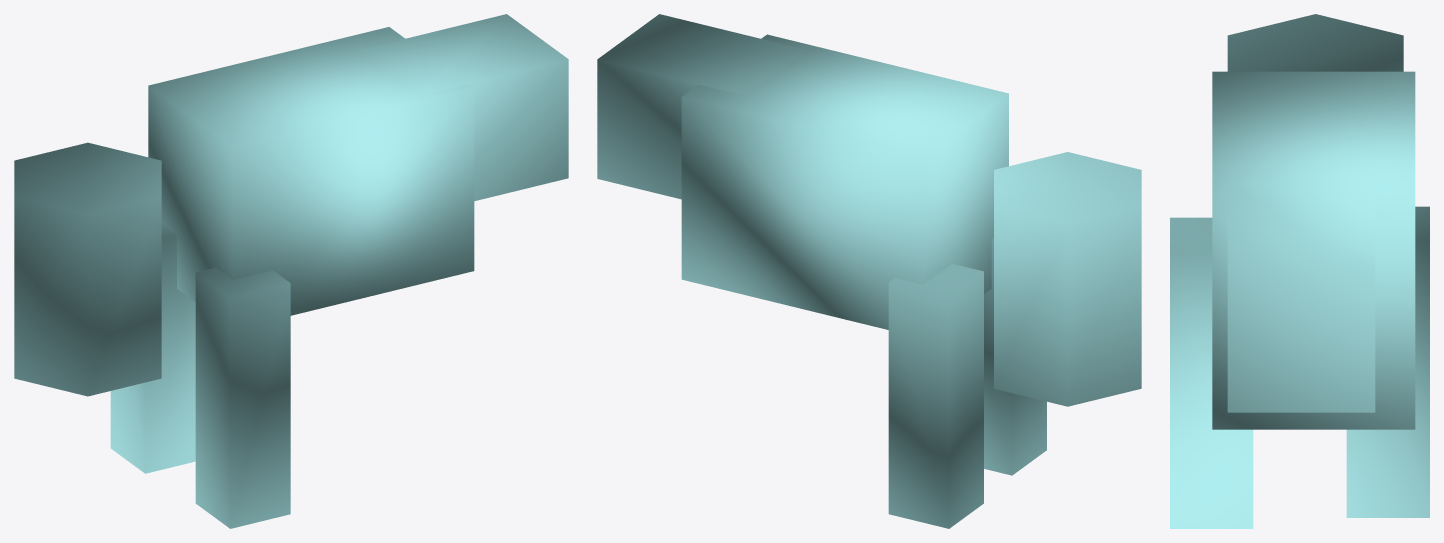
The model's file is ps2_jrpg_volcanic_drake_enemy.obj.
The picture shows the model from 3 angles, left to right: view 1: azimuth 30°, elevation 25°; view 2: azimuth 150°, elevation 25°; view 3: azimuth 270°, elevation 25°; orthographic projection. The views are drawn at different scales.
Size of the model in its own units: 1.55 by 1.04 by 0.5627.
